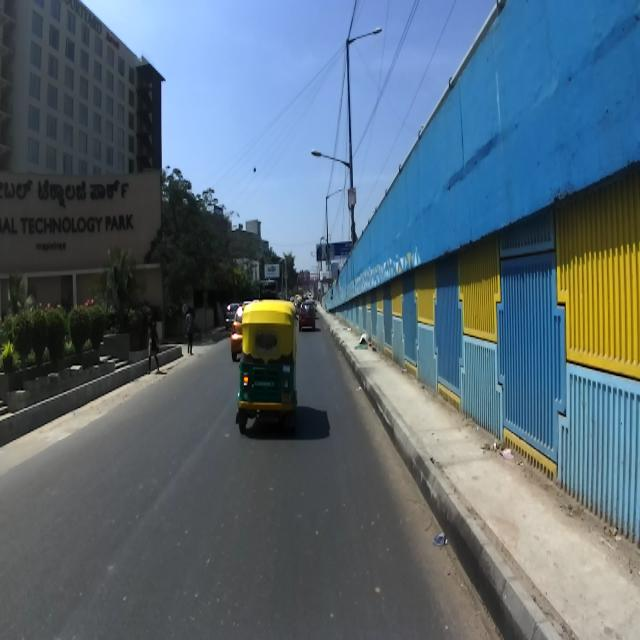auto ahead at: (230, 300, 304, 430)
